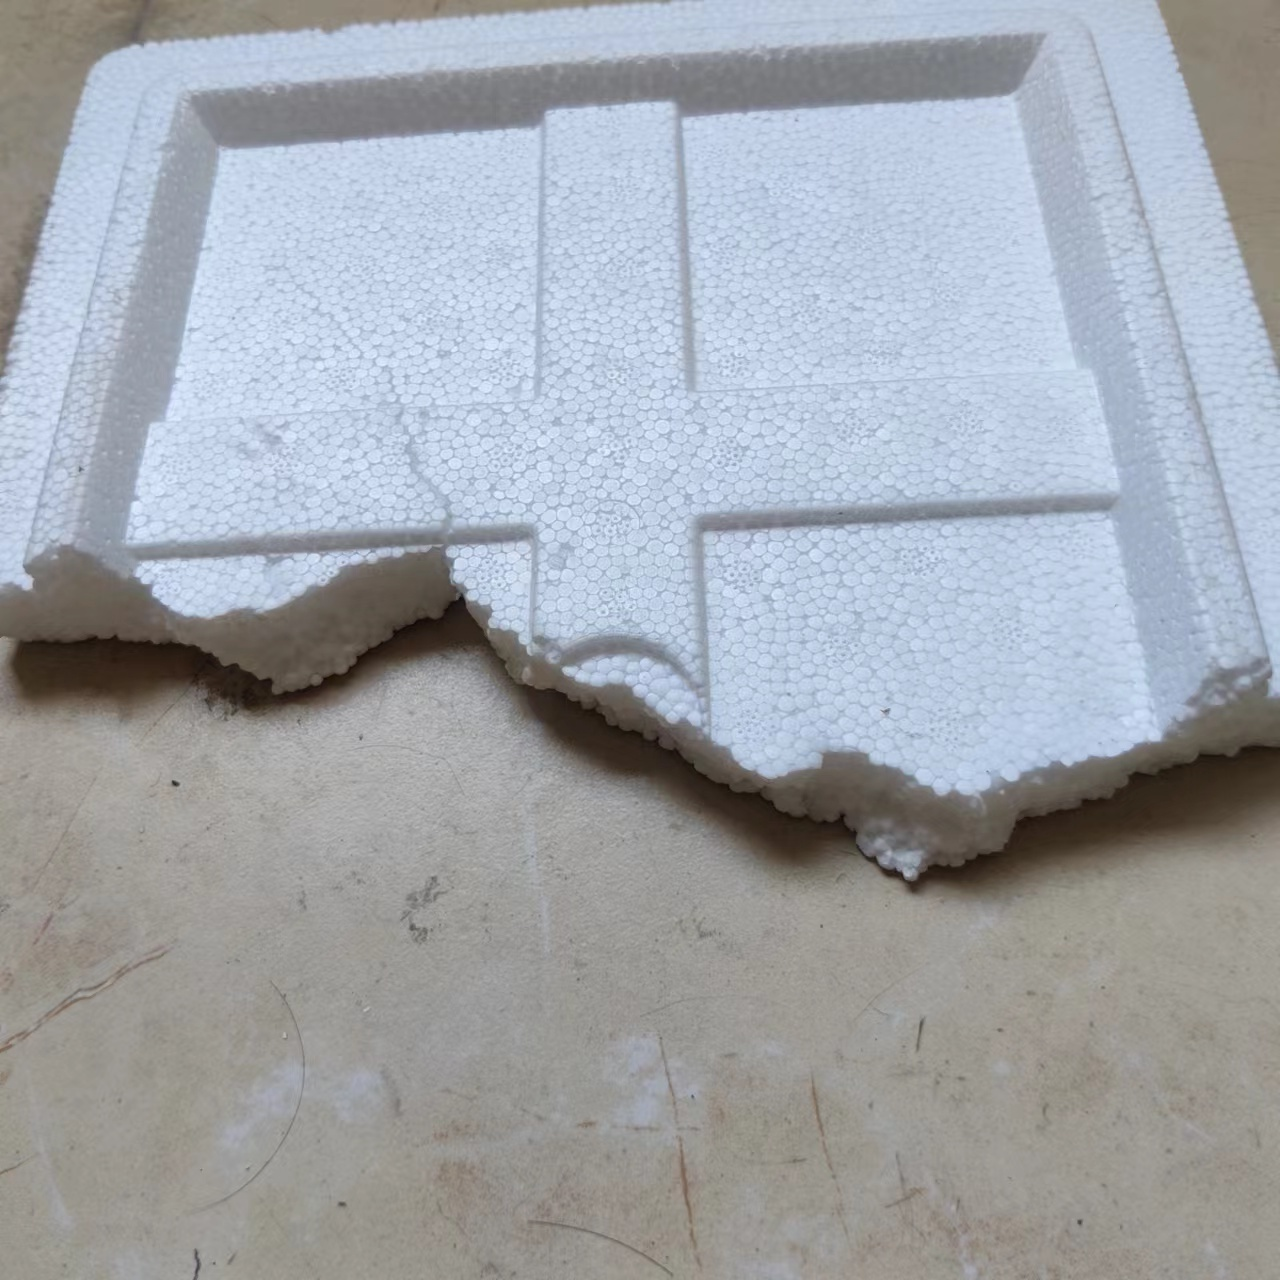5/可回收垃圾/泡沫: (1, 1, 1277, 879)
